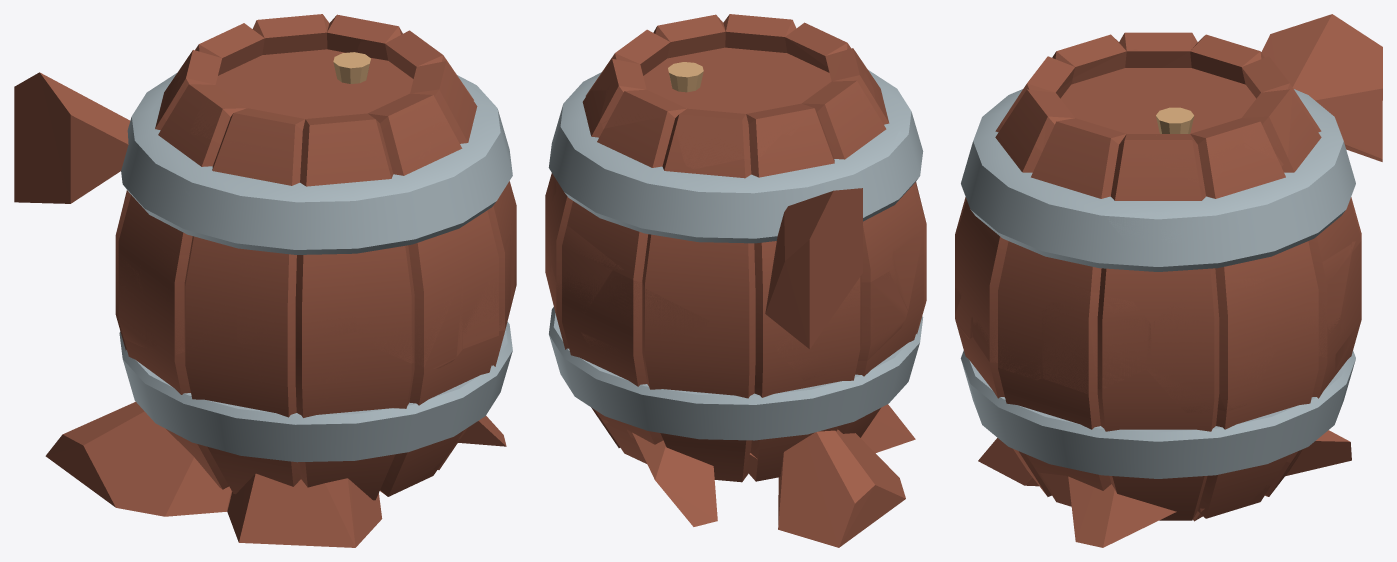
File: DestructibleBarrelMODEL.fbx
3 views of the same model, side by side, from view 1: azimuth 30°, elevation 25°; view 2: azimuth 150°, elevation 25°; view 3: azimuth 270°, elevation 25° (orthographic). The views are drawn at different scales.
Visible parts, largest first — view 1: barrel, barrel_cell.078, barrel_cell.070, barrel_cell.023, barrel_cell, barrel_cell.025, barrel_cell.095, barrel_cell.010, barrel_cell.001, barrel_cell.044, barrel_cell.085, barrel_cell.041 (+4 smaller); view 2: barrel, barrel_cell.078, barrel_cell.023, barrel_cell.070, barrel_cell.090, barrel_cell.044, barrel_cell.001, barrel_cell.002, barrel_cell.060, barrel_cell.054, barrel_cell.005, barrel_cell.067 (+6 smaller); view 3: barrel, barrel_cell.078, barrel_cell.023, barrel_cell.087, barrel_cell.057, barrel_cell.097, barrel_cell.005, barrel_cell.059, barrel_cell.044, barrel_cell.033, barrel_cell.060, barrel_cell.067 (+8 smaller).
Boxes of the visible parts, box(x1,y1,x2,y2) form: barrel: box(115, 14, 516, 500); barrel_cell.078: box(121, 75, 512, 249); barrel_cell.070: box(45, 401, 232, 516); barrel_cell.023: box(14, 72, 130, 203); barrel_cell: box(227, 473, 382, 547); barrel_cell.025: box(236, 261, 356, 345); barrel_cell.095: box(357, 254, 462, 368); barrel_cell.010: box(463, 236, 510, 348); barrel_cell.001: box(355, 61, 447, 133); barrel_cell.044: box(305, 105, 430, 168); barrel_cell.085: box(140, 251, 238, 354); barrel_cell.041: box(357, 37, 413, 81); barrel: box(545, 15, 926, 482); barrel_cell.078: box(548, 70, 923, 243); barrel_cell.023: box(765, 188, 862, 349); barrel_cell.070: box(778, 429, 905, 547); barrel_cell.090: box(675, 114, 781, 169); barrel_cell.044: box(748, 17, 839, 83); barrel_cell.001: box(654, 14, 764, 69); barrel_cell.002: box(632, 432, 717, 526); barrel_cell.060: box(580, 265, 709, 386); barrel_cell.054: box(775, 271, 907, 380); barrel_cell.005: box(550, 216, 616, 321); barrel_cell.067: box(599, 77, 673, 128); barrel: box(955, 32, 1361, 520); barrel_cell.078: box(967, 89, 1351, 271); barrel_cell.023: box(1261, 14, 1382, 161); barrel_cell.087: box(1042, 286, 1151, 393); barrel_cell.057: box(1068, 476, 1176, 547); barrel_cell.097: box(1147, 339, 1275, 413); barrel_cell.005: box(1268, 244, 1351, 357); barrel_cell.059: box(1154, 277, 1267, 360); barrel_cell.044: box(1001, 61, 1115, 124); barrel_cell.033: box(1067, 49, 1160, 100); barrel_cell.060: box(1335, 241, 1361, 369); barrel_cell.067: box(1242, 90, 1292, 159).
Size of the model in its own units: 99.19 by 105 by 102.
